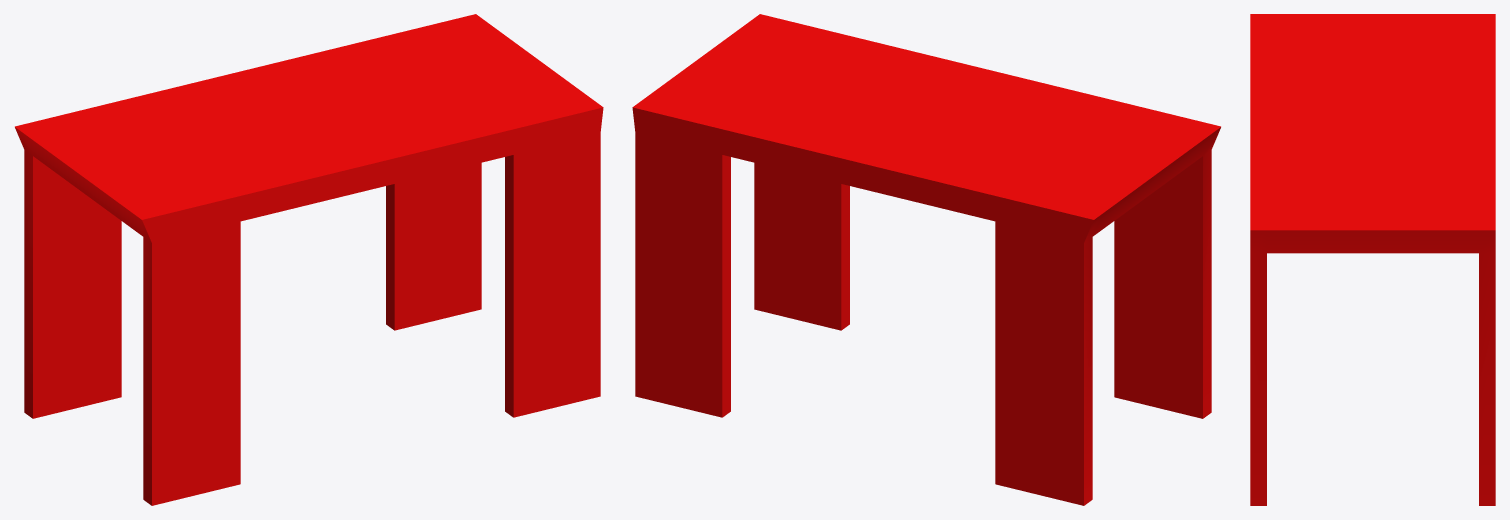
The model's file is Platform_B_col.fbx.
The picture shows the model from 3 angles, left to right: view 1: azimuth 30°, elevation 25°; view 2: azimuth 150°, elevation 25°; view 3: azimuth 270°, elevation 25°; orthographic projection. The views are drawn at different scales.
Visible parts, largest first — view 1: Platform_B_col; view 2: Platform_B_col; view 3: Platform_B_col.
Part boxes in pixels (box(x1,y1,x2,y2)): Platform_B_col: box(15, 14, 603, 505); Platform_B_col: box(632, 14, 1220, 505); Platform_B_col: box(1250, 14, 1495, 505).
Bounding box in the file's own units: 5.05 × 3.02 × 2.42.
